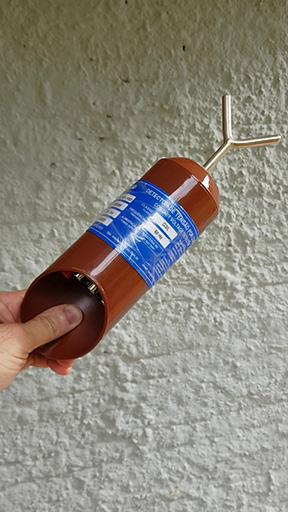Detector_Tensao_Contato: (17, 90, 282, 360)
